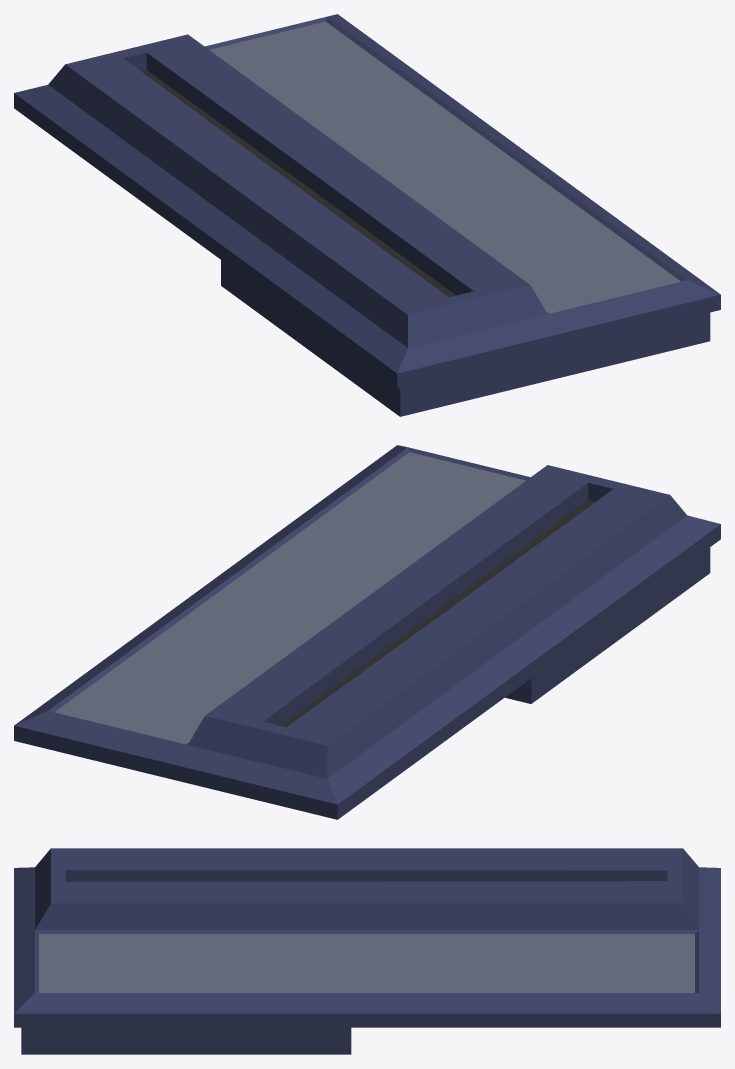
Rendered from BaseModuleSlider.fbx.
3 renders of one model, top to bottom at view 1: azimuth 30°, elevation 25°; view 2: azimuth 150°, elevation 25°; view 3: azimuth 270°, elevation 25°, orthographic. The views are drawn at different scales.
Parts seen in each view (by area): view 1: BaseModuleSlider; view 2: BaseModuleSlider; view 3: BaseModuleSlider.
Boxes of the visible parts, box(x1,y1,x2,y2) form: BaseModuleSlider: box(14, 14, 720, 416); BaseModuleSlider: box(14, 445, 720, 819); BaseModuleSlider: box(14, 848, 720, 1054).
Bounding box in the file's own units: 23.61 × 5.87 × 48.42.
